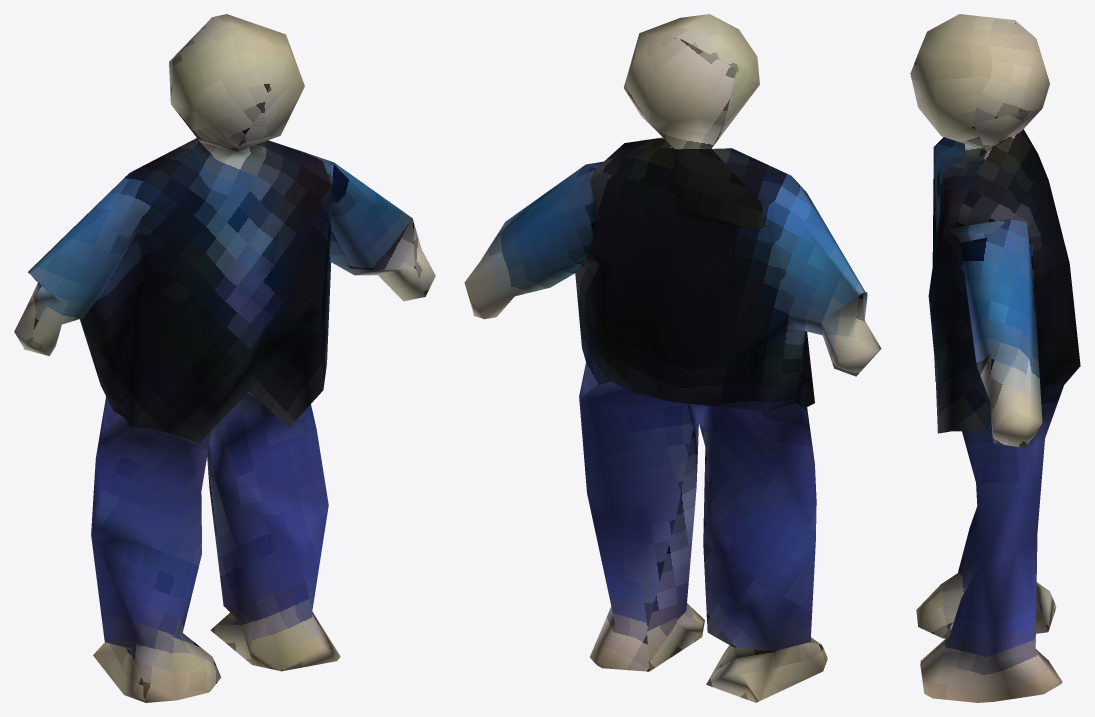
Rendered from GRANDFATHER_DOLL-low.glb.
The picture shows the model from 3 angles, left to right: view 1: azimuth 30°, elevation 25°; view 2: azimuth 150°, elevation 25°; view 3: azimuth 270°, elevation 25°; orthographic projection.
Parts seen in each view (by area): view 1: GRANDFATHER_DOLL; view 2: GRANDFATHER_DOLL; view 3: GRANDFATHER_DOLL.
Boxes of the visible parts, <box> form: GRANDFATHER_DOLL: <box>14,14,435,702</box>; GRANDFATHER_DOLL: <box>464,14,881,702</box>; GRANDFATHER_DOLL: <box>910,14,1080,702</box>.
Bounding box in the file's own units: 0.0865 × 0.1284 × 0.0308.
1 material, 1 textured.
